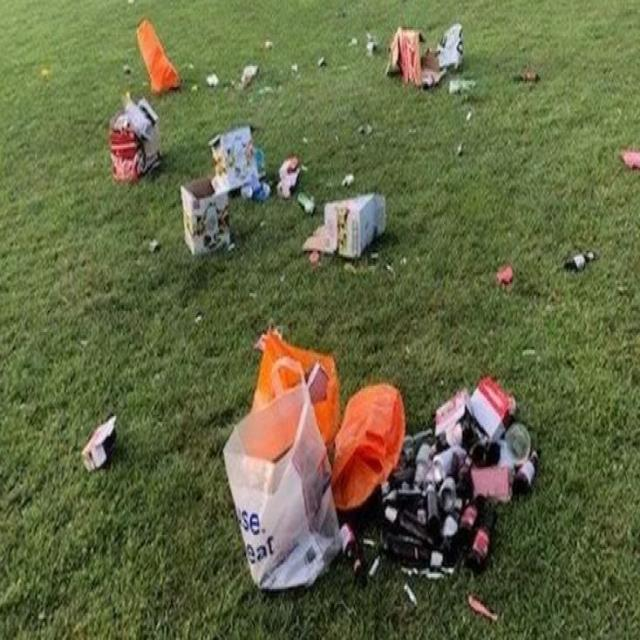dry: (221, 390, 353, 598), (335, 377, 407, 510), (300, 185, 388, 268), (178, 175, 236, 262), (205, 122, 266, 200), (135, 13, 187, 98), (385, 22, 439, 97), (469, 366, 517, 448), (81, 412, 123, 482), (495, 253, 521, 300)
